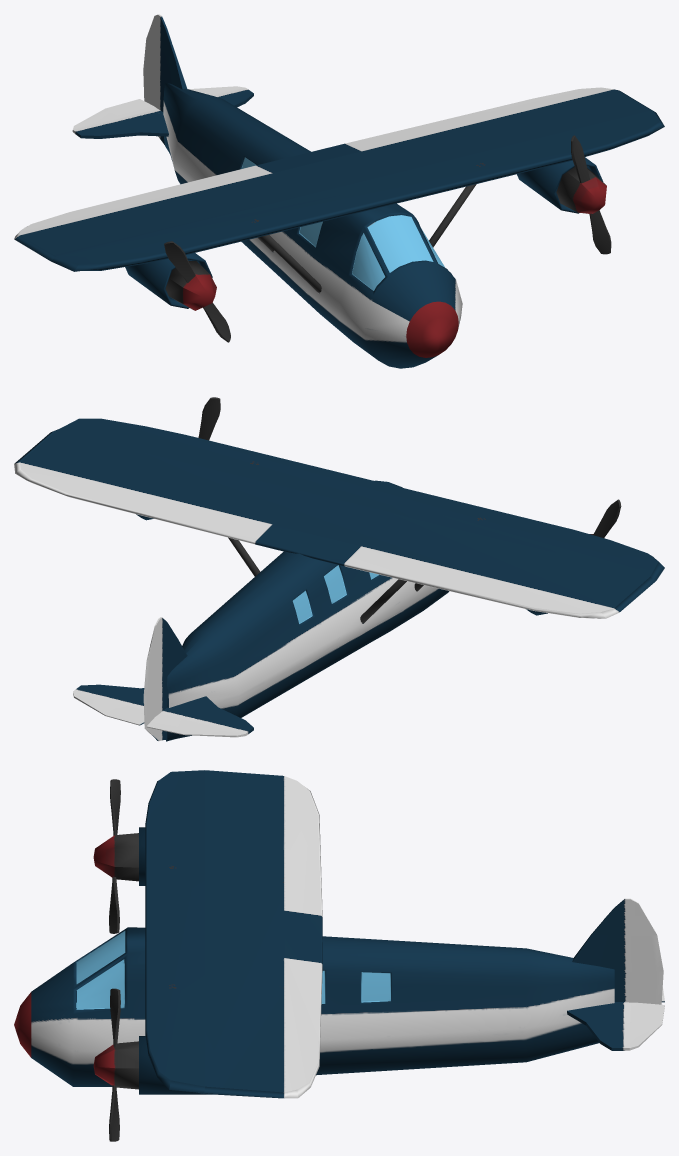
The picture shows the model from 3 angles, top to bottom: view 1: azimuth 30°, elevation 25°; view 2: azimuth 150°, elevation 25°; view 3: azimuth 270°, elevation 25°; orthographic projection. The views are drawn at different scales.
Visible parts, largest first — view 1: Plane_5, Propeller_2, Propeller_1; view 2: Plane_5, Propeller_2, Propeller_1; view 3: Plane_5, Propeller_1, Propeller_2.
Part boxes in pixels (x1,y1,x2,y2): Plane_5: (14,14,664,368); Propeller_2: (556,135,611,254); Propeller_1: (164,241,230,342); Plane_5: (14,418,664,741); Propeller_2: (198,397,220,440); Propeller_1: (590,499,621,537); Plane_5: (14,770,664,1098); Propeller_1: (93,779,138,933); Propeller_2: (93,988,138,1141).
Bounding box in the file's own units: 492 × 134 × 418.
